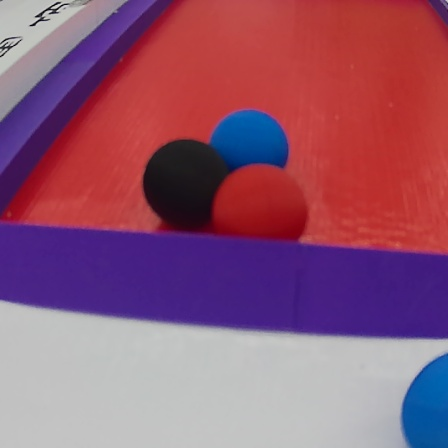black: (141, 136, 228, 232)
blue: (211, 103, 291, 179), (383, 355, 448, 448)
red: (204, 163, 322, 249)
red_aim: (2, 1, 448, 347)
